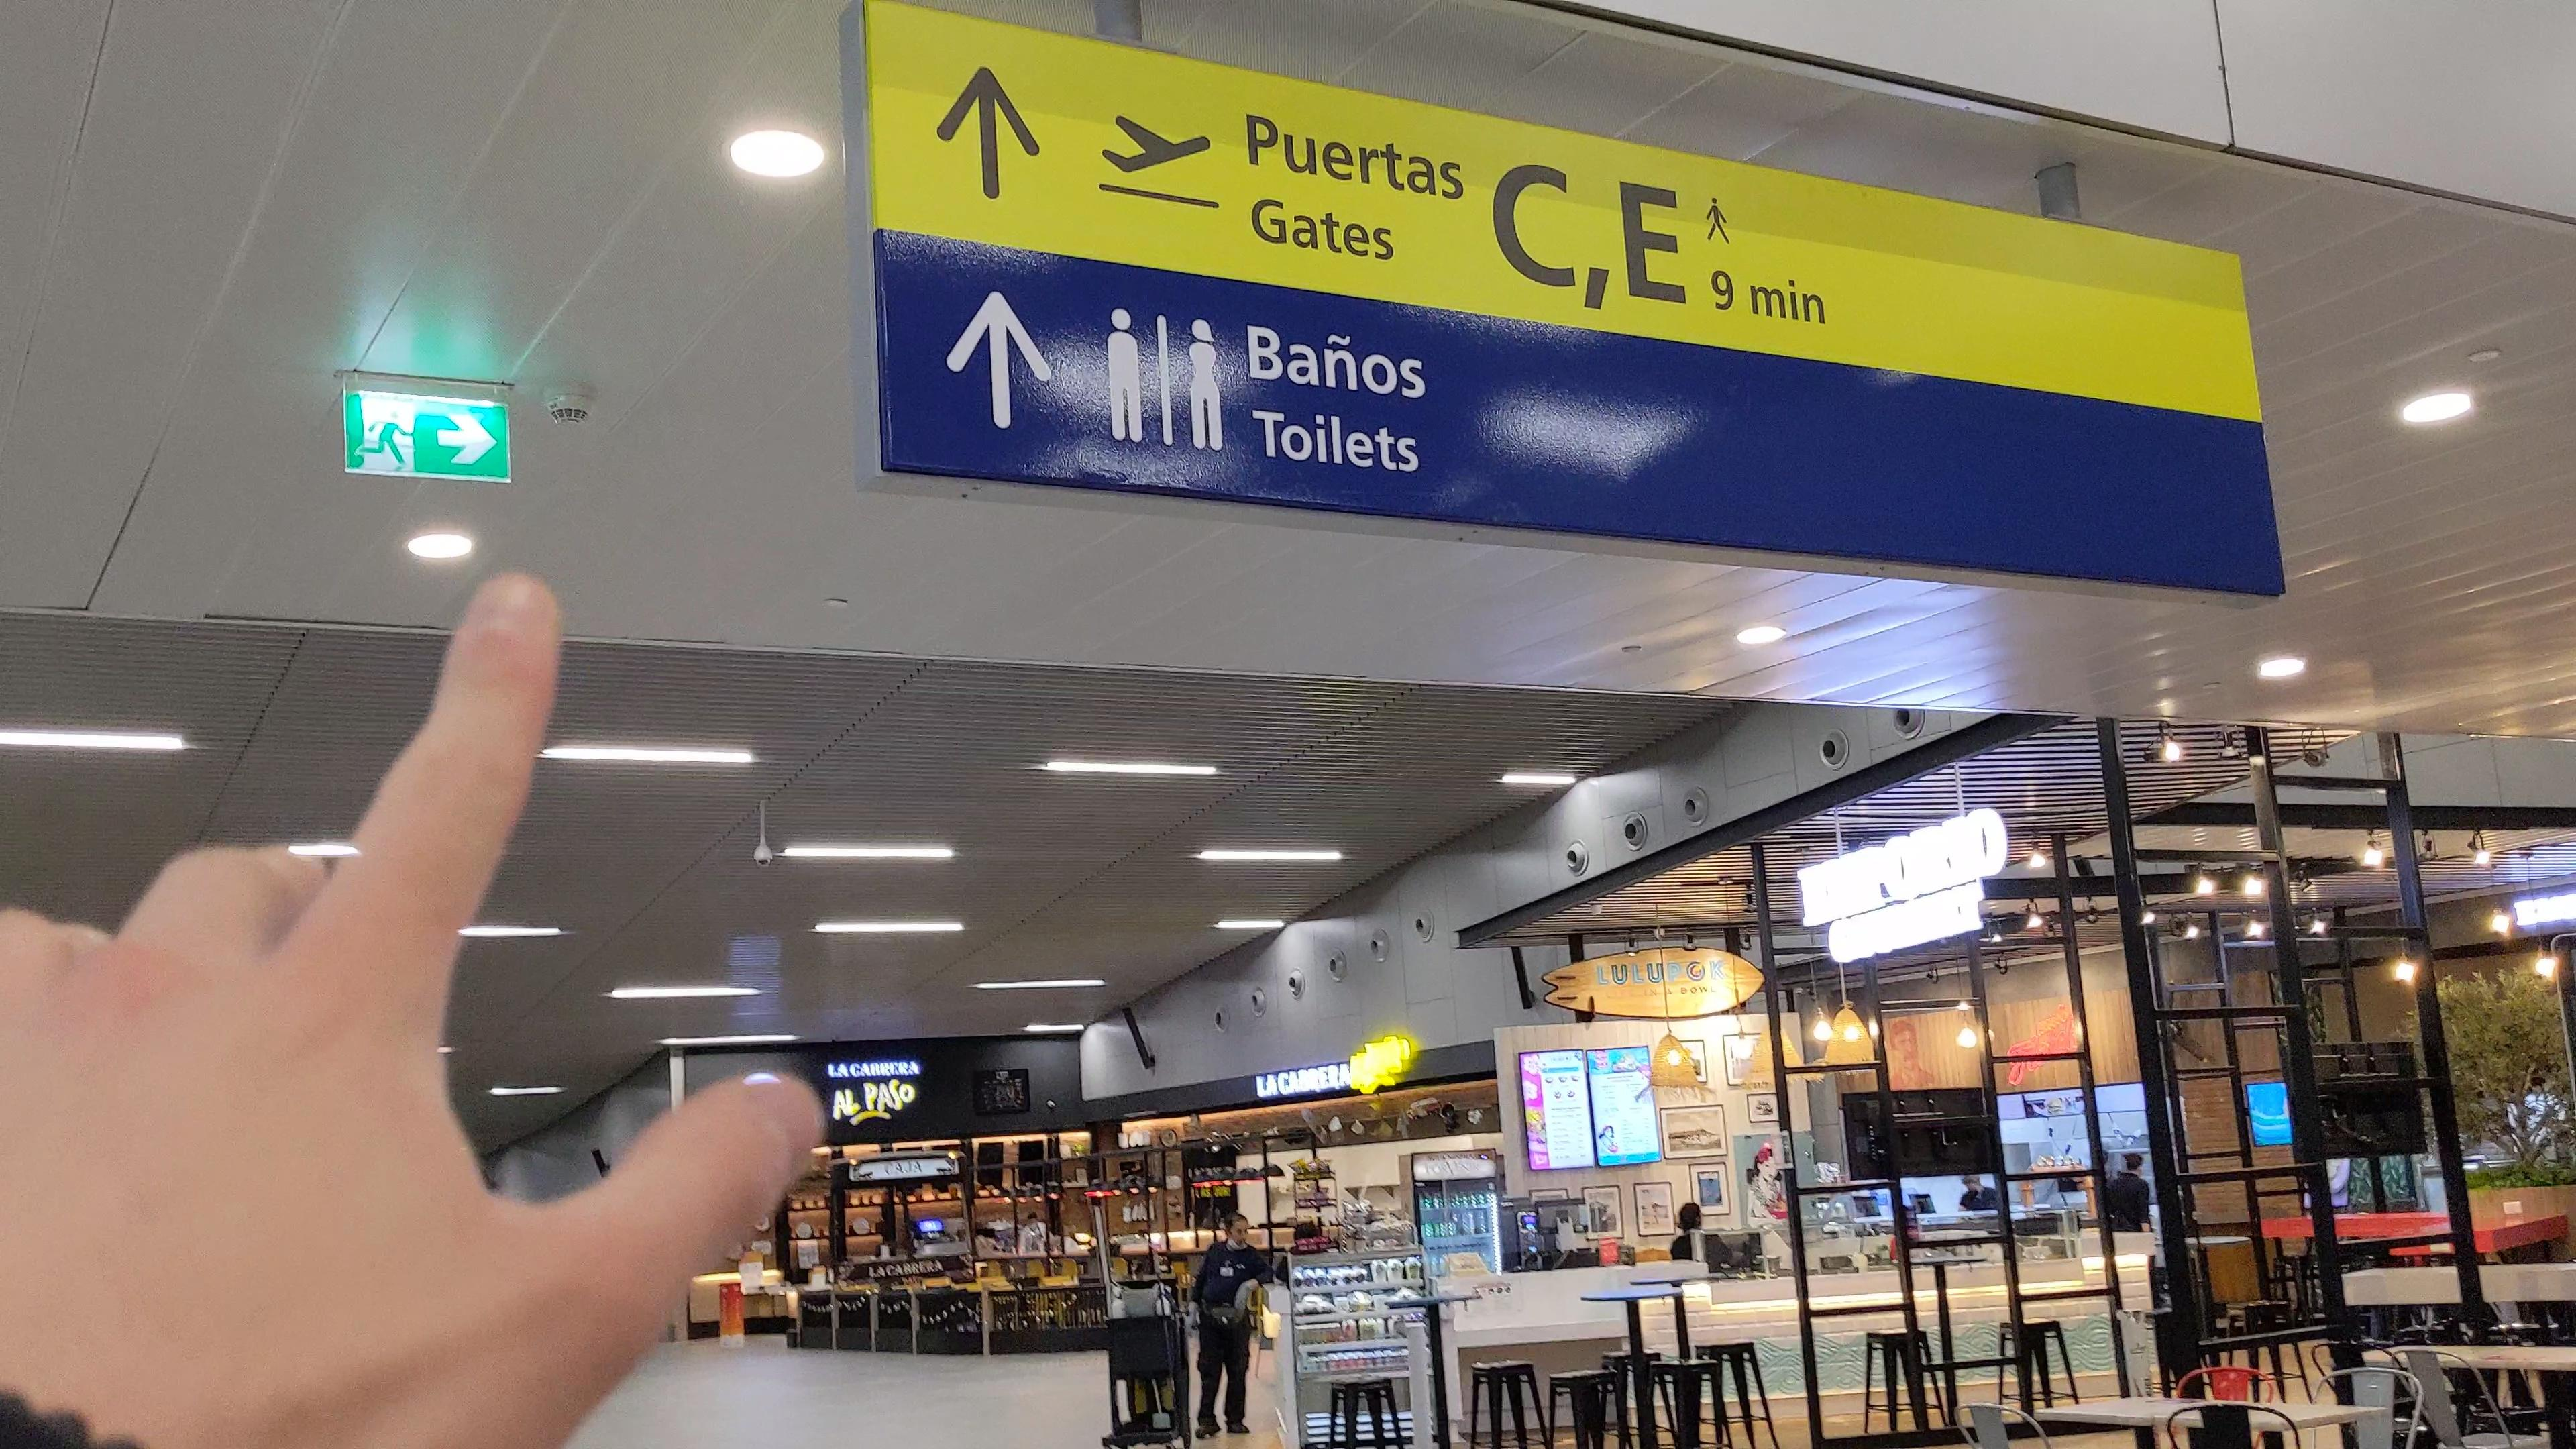airplane symbol: (1097, 110, 1217, 177)
bathrooms: (1092, 294, 1238, 465)
emergency exit: (352, 393, 418, 478)
emergency right arrow: (435, 410, 499, 469)
up arrow: (941, 278, 1060, 442), (934, 55, 1046, 209)
